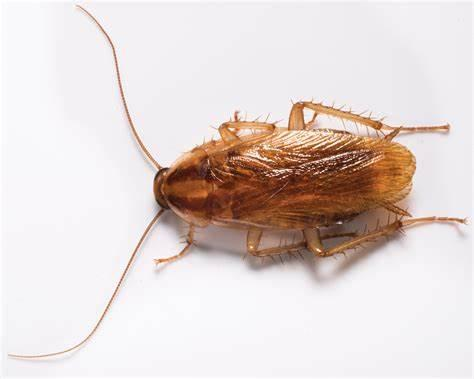cockroach: (140, 98, 435, 264)
